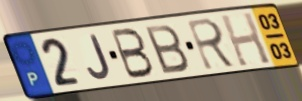2: (42, 36, 87, 90)
B: (142, 22, 192, 76), (109, 27, 157, 81)
H: (218, 10, 274, 69)
J: (86, 33, 113, 81)
R: (184, 16, 239, 72)
